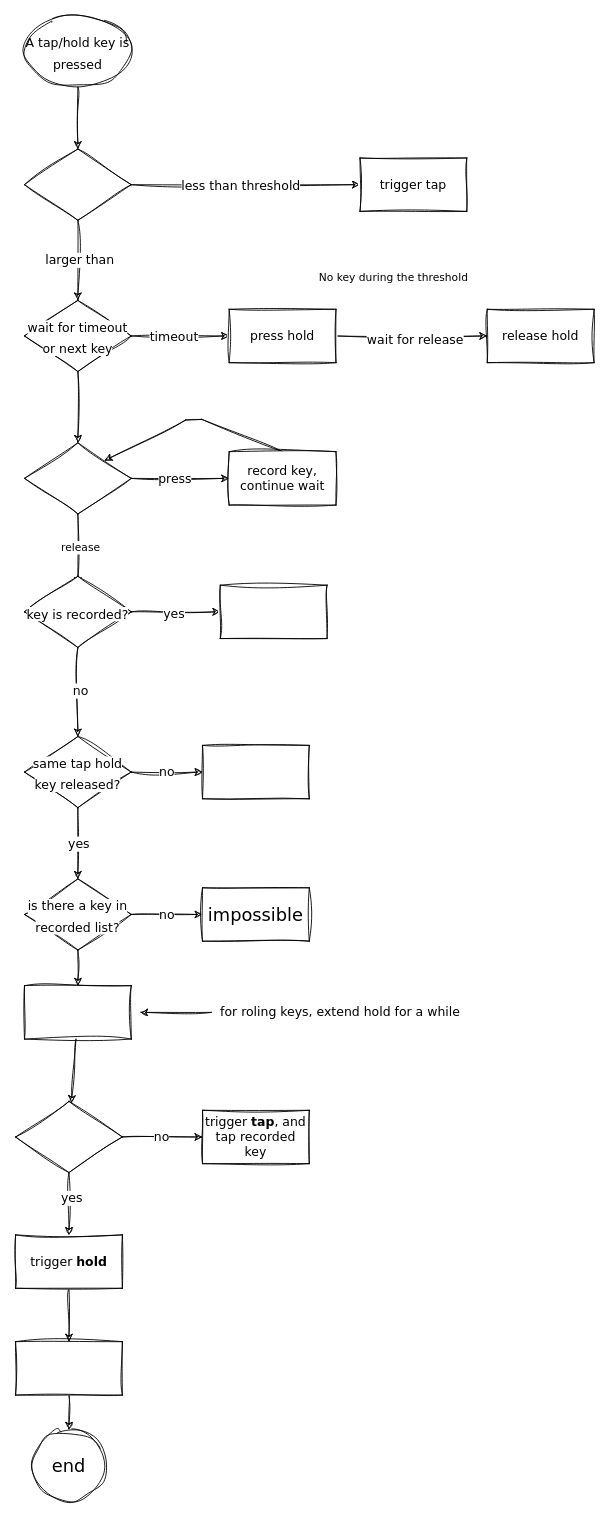
This 610x1517 diagram has some shape labels left out. Here are the shapes that lost their labels. From the top down, the centre of each, then its label:
the point at 77,184: check prior-idle time
the point at 77,478: next key is press?
the point at 273,611: trigger hold , then tap recorded key
the point at 255,771: release this key as normal
the point at 77,1012: wait another 50 ms
the point at 68,1136: key in recorded list is released too
the point at 68,1368: tap ALL the recorded keys
